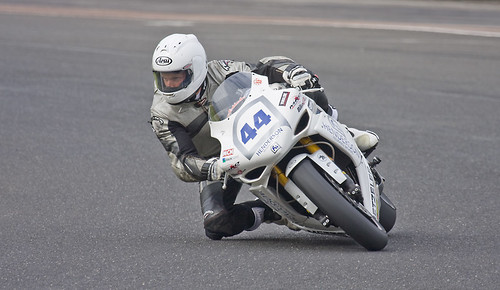helmet: (134, 21, 212, 105)
